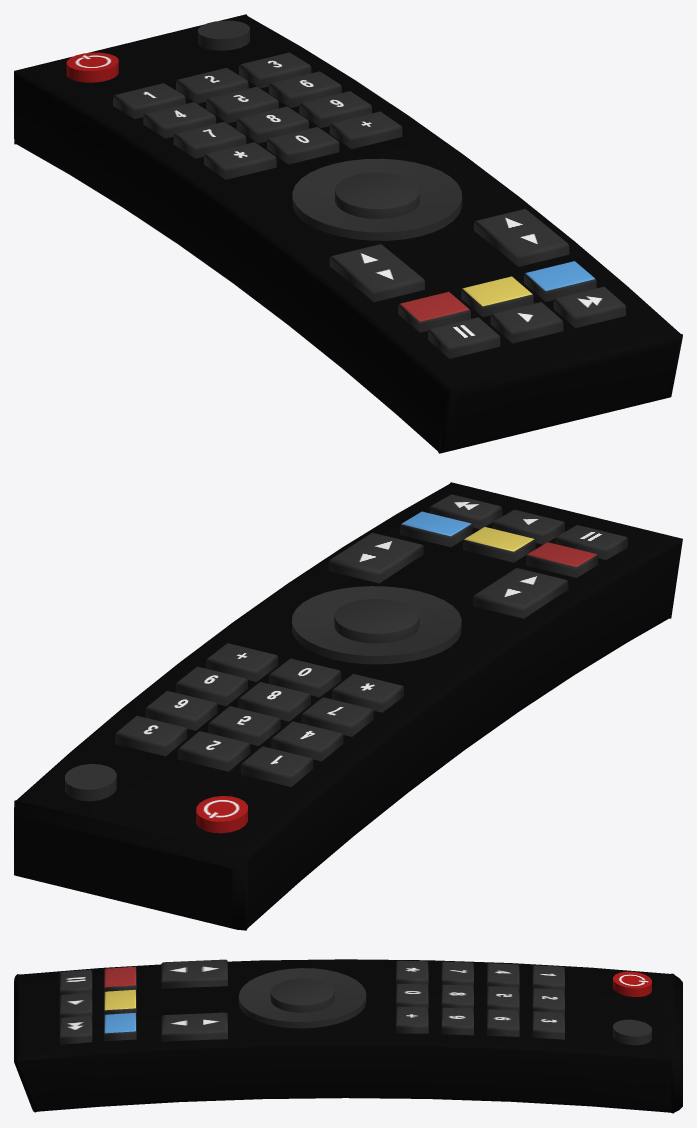
Rendered from remote control_01.fbx.
3 views of the same model, one above another, from view 1: azimuth 30°, elevation 25°; view 2: azimuth 150°, elevation 25°; view 3: azimuth 270°, elevation 25° (orthographic). The views are drawn at different scales.
Visible parts, largest first — view 1: Box022; view 2: Box022; view 3: Box022.
Boxes of the visible parts, x1,y1,x2,y2 form: Box022: (14, 14, 682, 453); Box022: (14, 482, 682, 930); Box022: (14, 959, 682, 1113).
Size of the model in its own units: 19.11 by 63.19 by 8.34.
3 materials, 2 textured.
